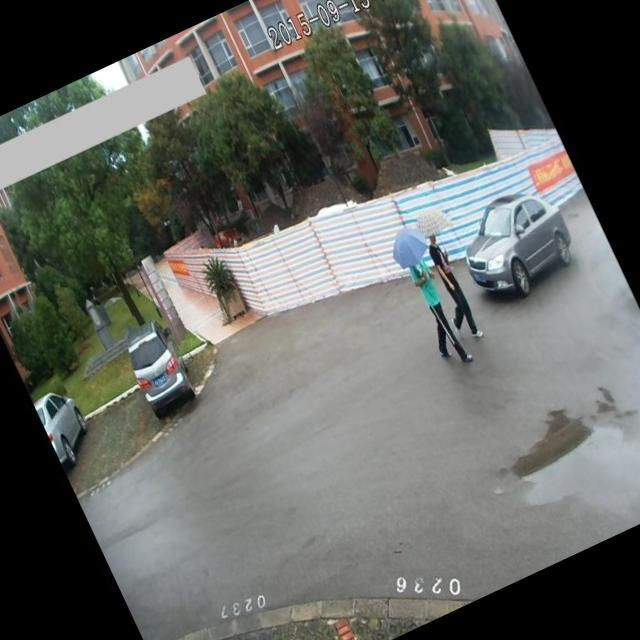person: (384, 224, 477, 375), (415, 230, 493, 347)
